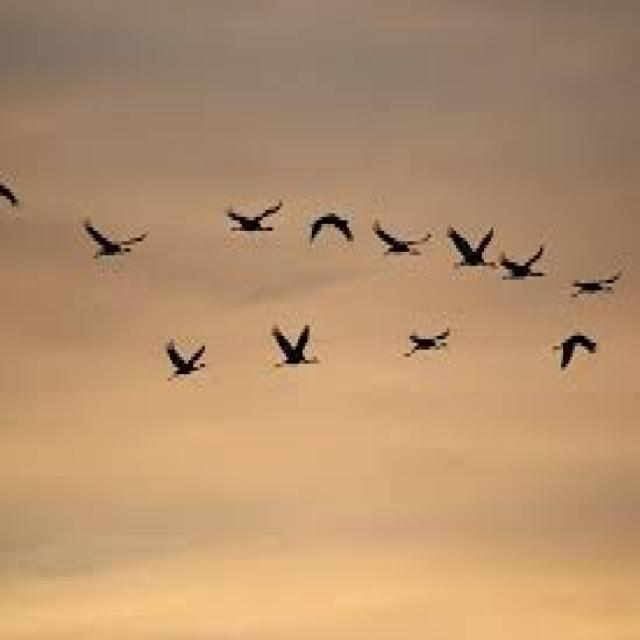bird: (493, 196, 568, 301), (447, 133, 496, 287), (366, 190, 451, 274), (222, 176, 288, 274), (68, 208, 168, 271), (307, 185, 368, 280), (264, 294, 325, 382), (150, 322, 218, 392), (558, 244, 628, 312), (377, 312, 461, 366), (541, 311, 611, 367)
